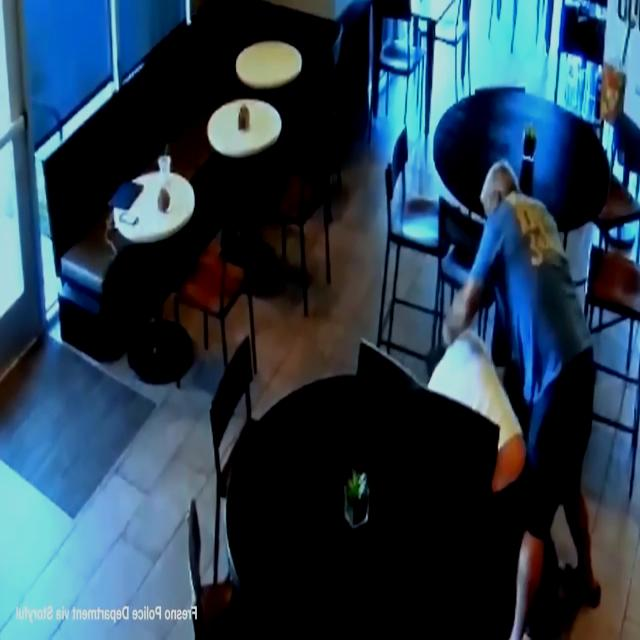fight: (427, 162, 598, 639)
